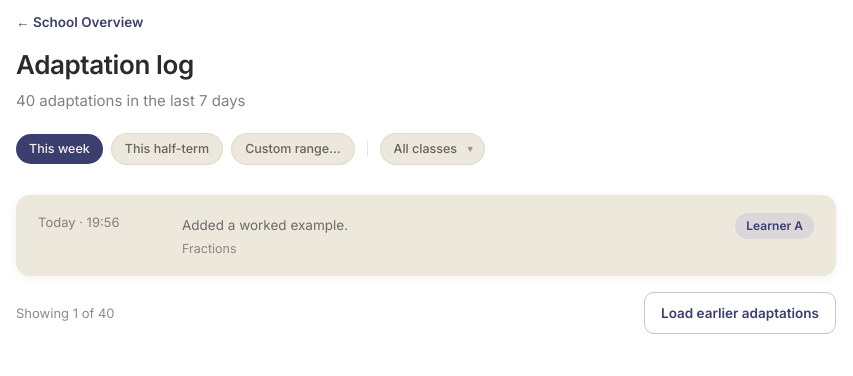
Scenario: filtering the adaptation log by class › keeps what is shown when one earlier page fails
Step 1. Click the button "Load earlier adaptations" → (740, 313), box [644, 292, 836, 334]
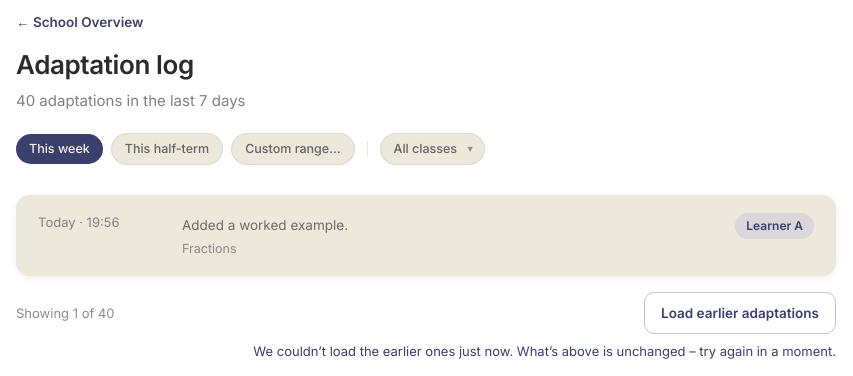
Check: the text "Showing 1 of 40" is shown, box [16, 304, 114, 323]
Check: the text "couldn.t load the earlier ones" is shown, box [253, 343, 836, 359]
